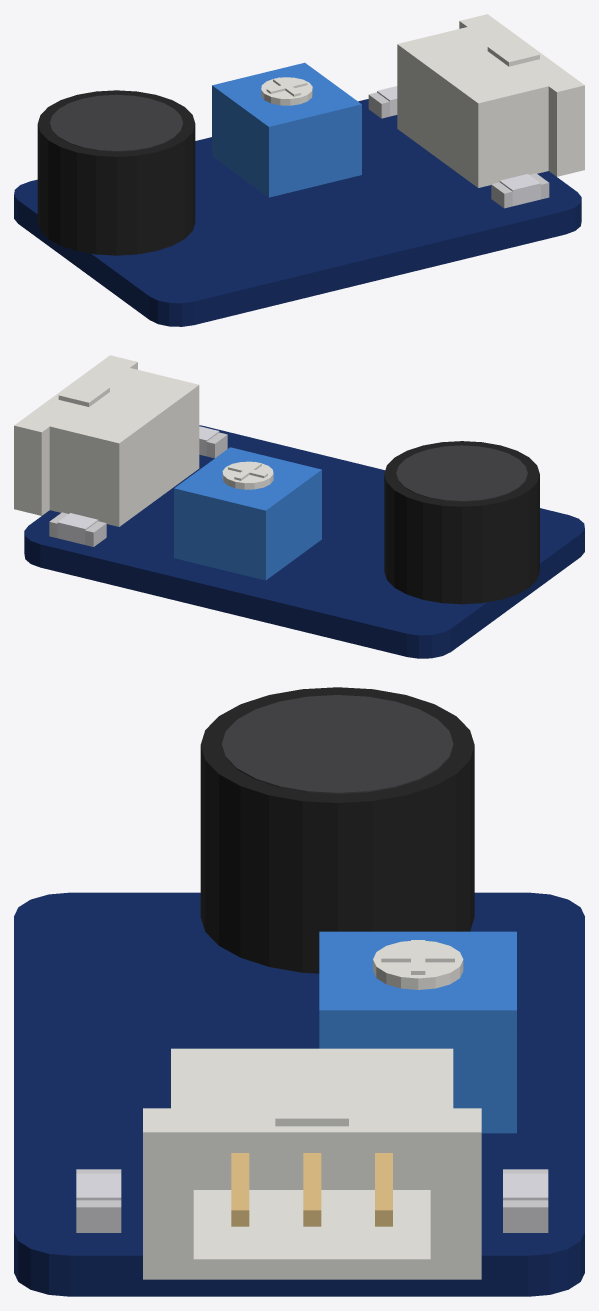
Rendered from mic.glb.
3 renders of one model, top to bottom at view 1: azimuth 30°, elevation 25°; view 2: azimuth 150°, elevation 25°; view 3: azimuth 270°, elevation 25°, orthographic. The views are drawn at different scales.
Parts seen in each view (by area): view 1: mic_pcb, mic_xh, mic_mic, mic_pot, mic_mic_felt, mic_pot_screw, mic_led_power, mic_led_power_ends, mic_led_signal_ends; view 2: mic_pcb, mic_xh, mic_mic, mic_pot, mic_mic_felt, mic_pot_screw, mic_led_signal, mic_led_signal_ends, mic_led_power_ends; view 3: mic_pcb, mic_xh, mic_mic, mic_pot, mic_mic_felt, mic, mic_pot_screw, mic_led_power_ends, mic_led_signal_ends, mic_led_power, mic_led_signal.
Part boxes in pixels (x1,y1,x2,y2): mic_pcb: (14,99,581,326); mic_xh: (397,14,584,187); mic_mic: (37,90,195,255); mic_pot: (212,62,361,197); mic_mic_felt: (50,94,183,151); mic_pot_screw: (261,77,312,105); mic_led_power: (499,174,540,206); mic_led_power_ends: (491,173,549,208); mic_led_signal_ends: (368,92,389,118); mic_pcb: (24,425,584,658); mic_xh: (14,355,199,526); mic_mic: (384,441,539,604); mic_pot: (174,447,321,580); mic_mic_felt: (396,445,527,501); mic_pot_screw: (222,461,273,489); mic_led_signal: (57,513,98,544); mic_led_signal_ends: (49,512,106,546); mic_led_power_ends: (206,432,227,458); mic_pcb: (14,892,584,1296); mic_xh: (143,1048,481,1279); mic_mic: (200,687,474,973); mic_pot: (319,931,516,1133); mic_mic_felt: (221,695,453,793); mic: (231,1153,392,1226); mic_pot_screw: (373,940,463,989); mic_led_power_ends: (76,1169,121,1232); mic_led_signal_ends: (503,1169,548,1232); mic_led_power: (76,1173,121,1200); mic_led_signal: (503,1173,548,1200).
Bounding box in the file's own units: 0.0342 × 0.0103 × 0.0202.
